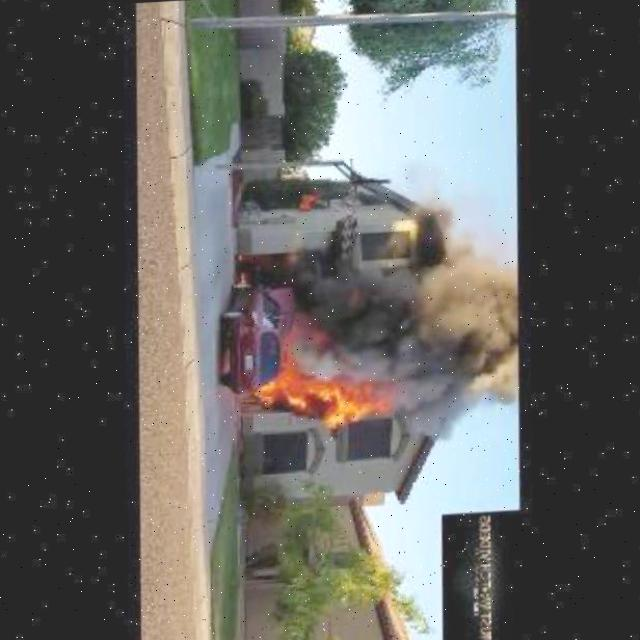fire: (245, 332, 397, 436)
